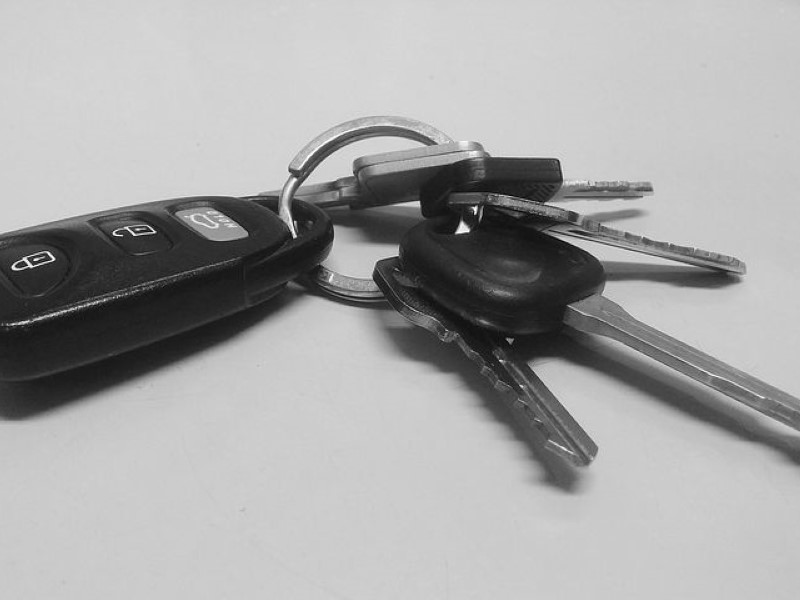carkey: (3, 185, 338, 391)
key: (346, 138, 747, 468)
